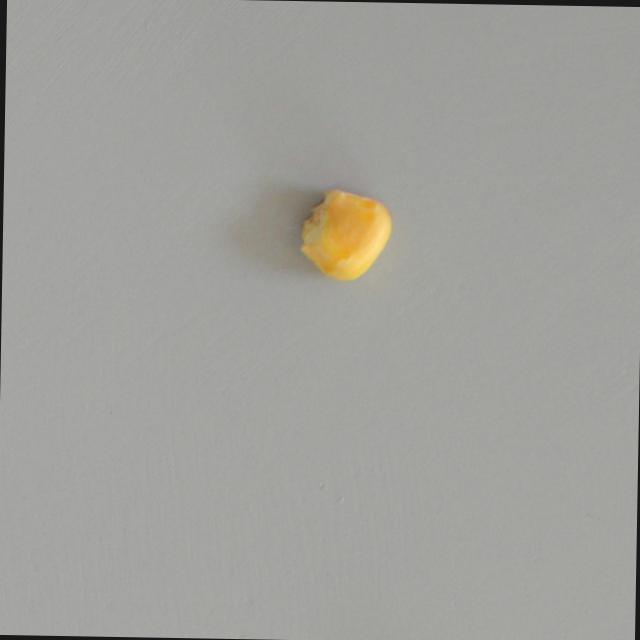pelicula: (290, 183, 396, 286)
